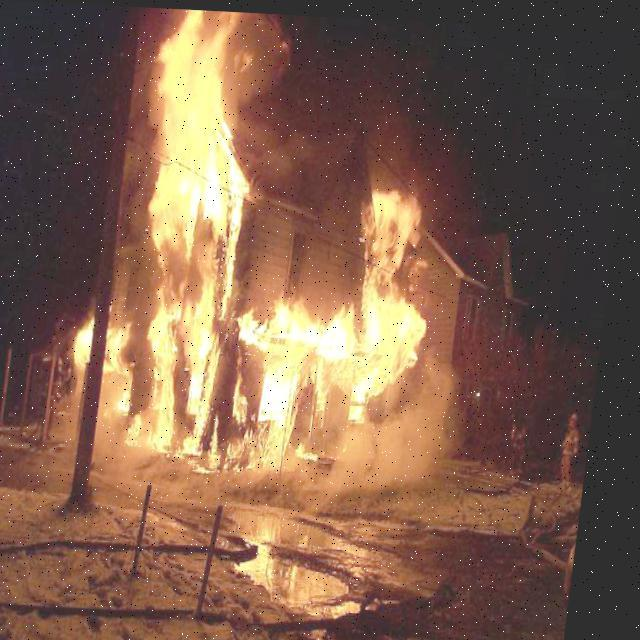Fire: (49, 7, 467, 482)
